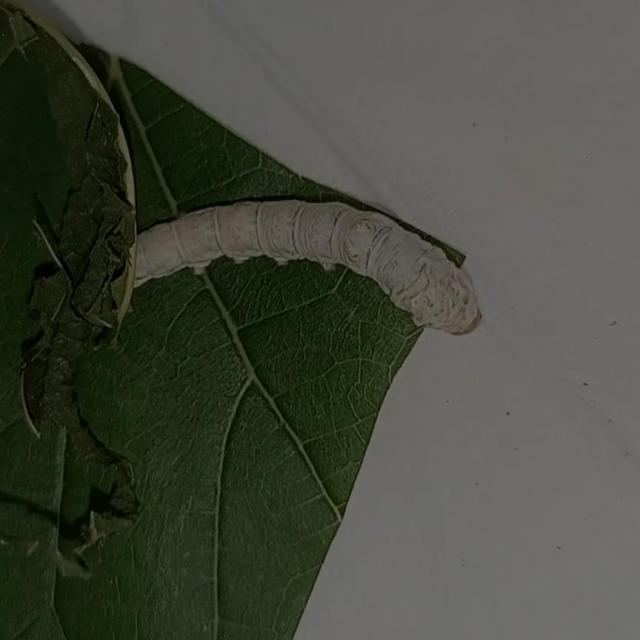Healthy: (92, 165, 506, 376)
